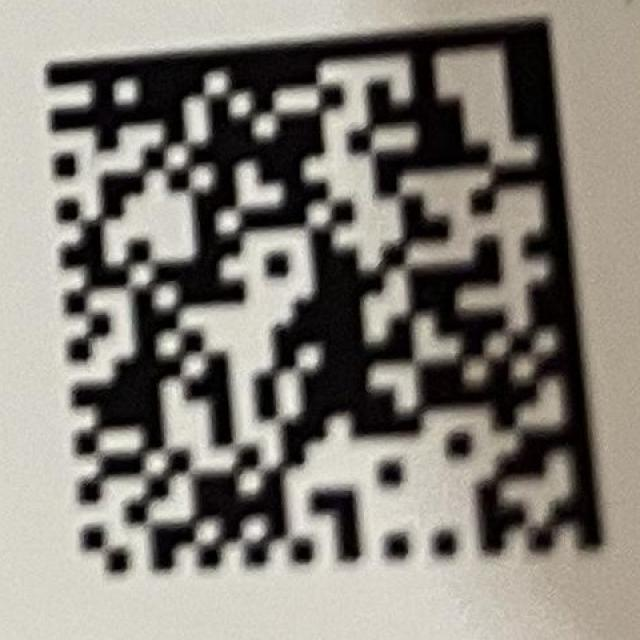QR_CODE: (43, 16, 604, 574)
